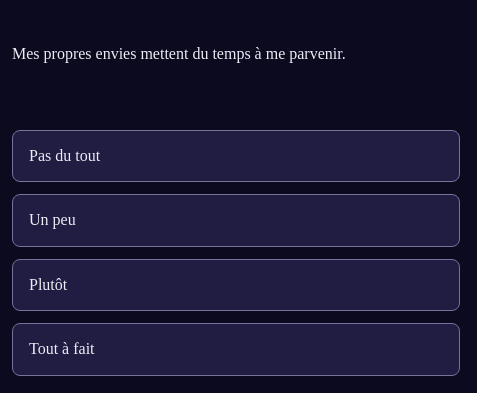
[5.5/AC1] à égalité, c’est elle qui tranche › [LE CŒUR] les types à égalité sont NOMMÉS, et le produit ne choisit pas
The image size is (477, 393).
Click the button "Tout à fait". click: (62, 349)
box: [12,323,460,376]
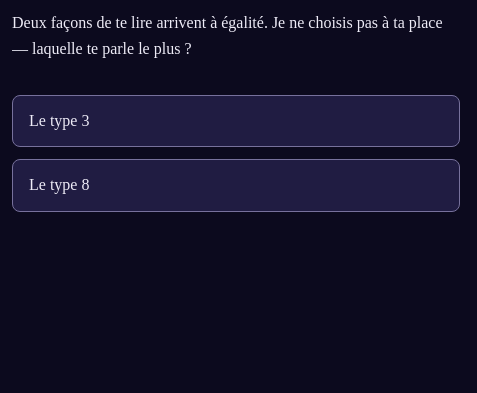
Expected: the number of buttons is 2, [12,95,460,147]; [12,159,460,212]
Expected: the buttons read "Le type 3", "Le type 8", in this order, [12,95,460,147]; [12,159,460,212]
